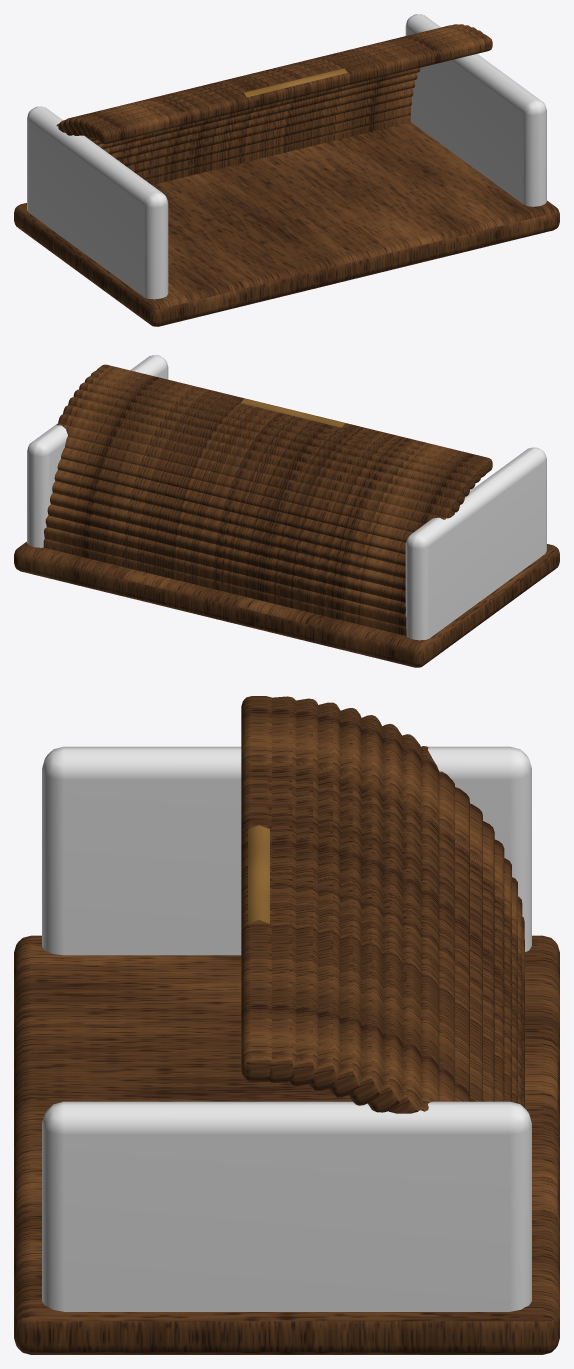
Rendered from Breadbox.fbx.
The picture shows the model from 3 angles, top to bottom: view 1: azimuth 30°, elevation 25°; view 2: azimuth 150°, elevation 25°; view 3: azimuth 270°, elevation 25°; orthographic projection. The views are drawn at different scales.
Parts seen in each view (by area): view 1: Breadbox_SmokedOak, Breadbox_Walnut, Breadbox_Brass; view 2: Breadbox_SmokedOak, Breadbox_Walnut, Breadbox_Brass; view 3: Breadbox_SmokedOak, Breadbox_Walnut, Breadbox_Brass.
Boxes of the visible parts, x1,y1,x2,y2 form: Breadbox_SmokedOak: (14, 24, 559, 326); Breadbox_Walnut: (27, 14, 546, 299); Breadbox_Brass: (241, 68, 347, 97); Breadbox_SmokedOak: (14, 364, 559, 667); Breadbox_Walnut: (27, 355, 546, 640); Breadbox_Brass: (241, 398, 347, 427); Breadbox_SmokedOak: (14, 696, 559, 1354); Breadbox_Walnut: (42, 746, 531, 1311); Breadbox_Brass: (248, 825, 269, 924).
Size of the model in its own units: 65 by 23.3 by 39.
